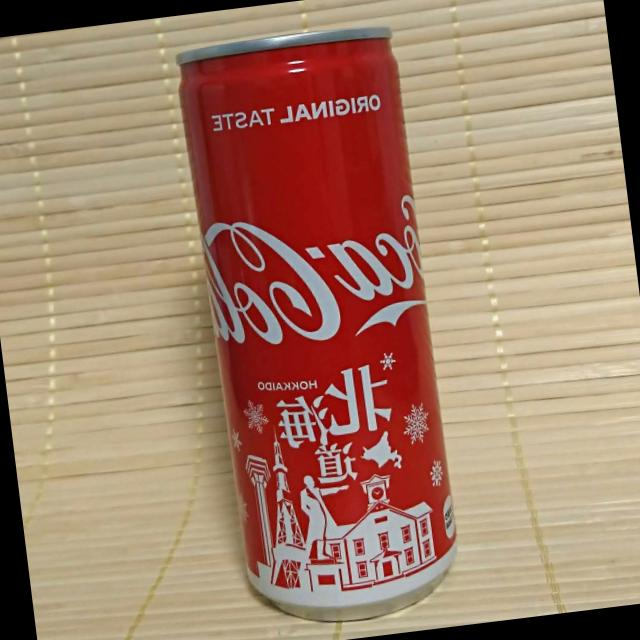cocacola: (180, 18, 472, 634)
